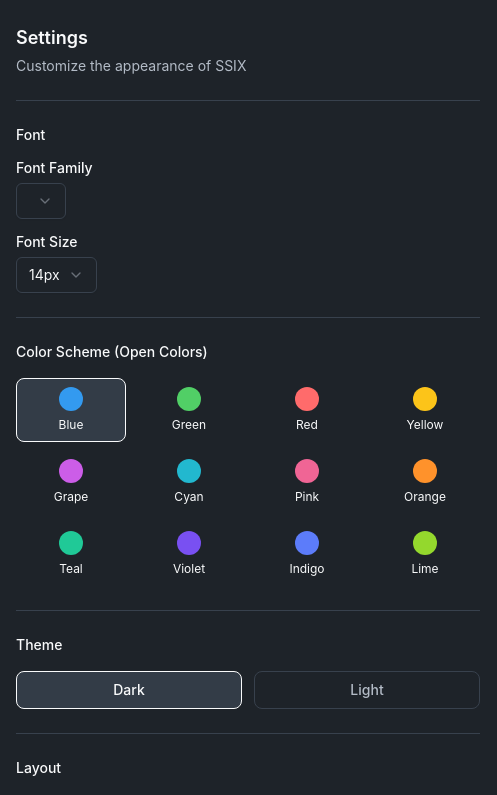
Test: SettingsPanel › shows a visible error when saving fails
Click the radio button labelled "light" at (367, 690), box [254, 671, 480, 709]
(page scrolled)
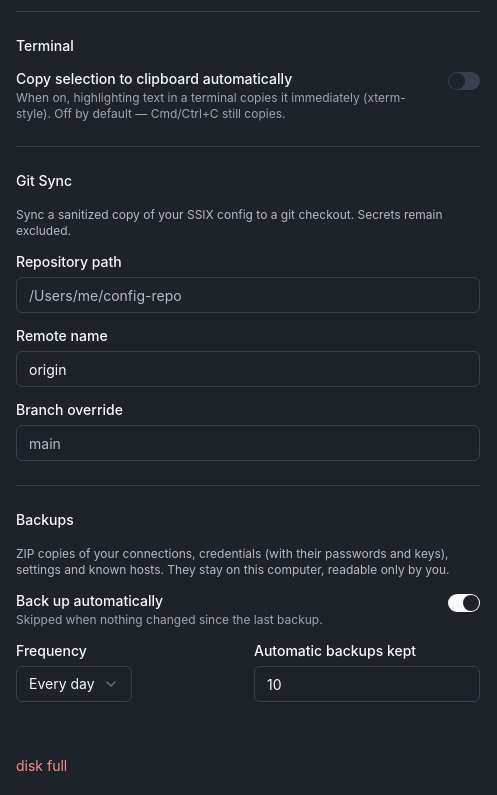
Now the message reads "disk full", box [16, 757, 67, 774]
